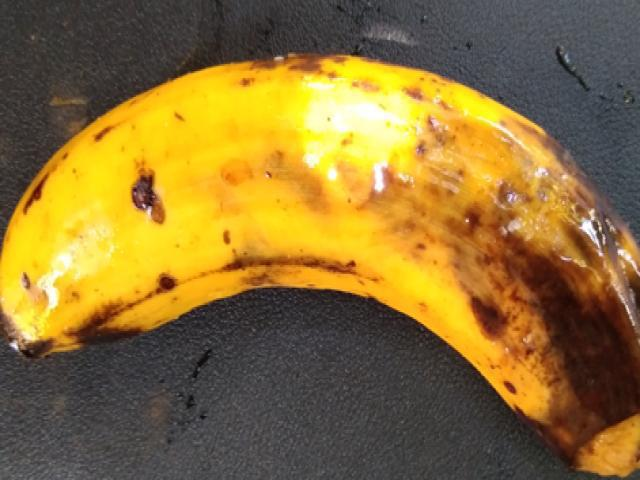overripe: (0, 37, 378, 368)
rotten: (300, 59, 639, 479)
